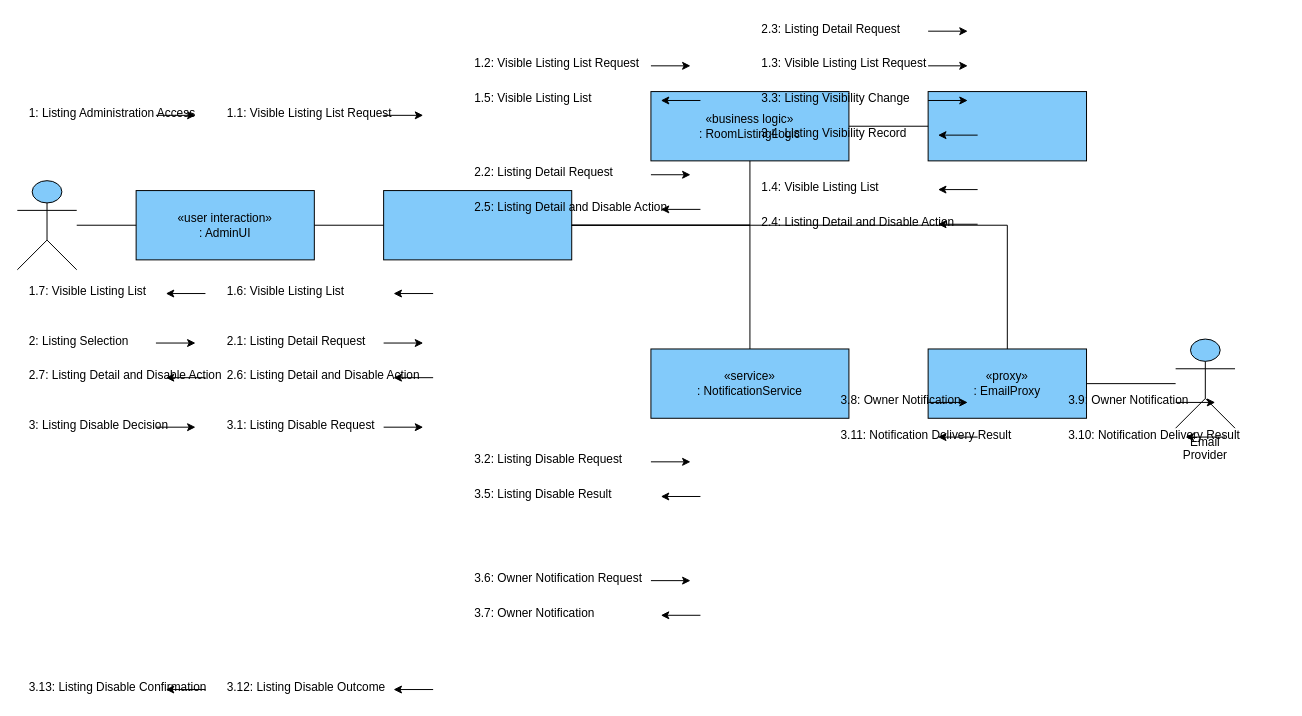
Some shapes in this 1302 by 716 pixel diagram are drawn without their labels. The shapes that lost their labels are listed below. From the top down, each one's centre as x and y in pixels, then its label:
point (1007, 126): «entity» : RoomListing
point (46, 225): System Admin
point (477, 225): «coordinator» : AdminCoordinator
